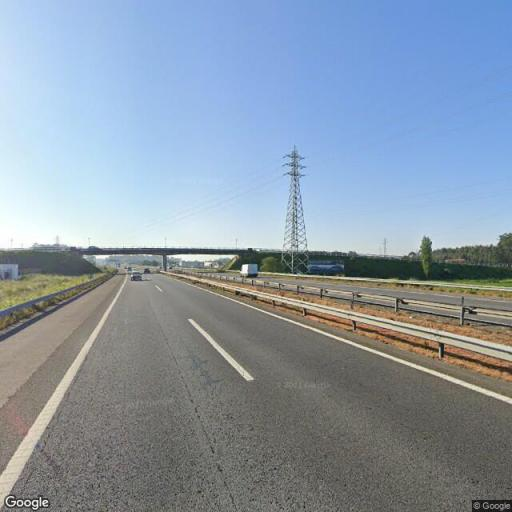ss_3: (282, 144, 310, 271)
